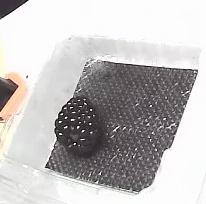berry: (55, 97, 101, 154)
